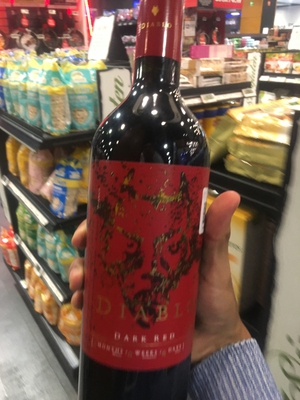diablo dark red: (76, 13, 218, 386)
